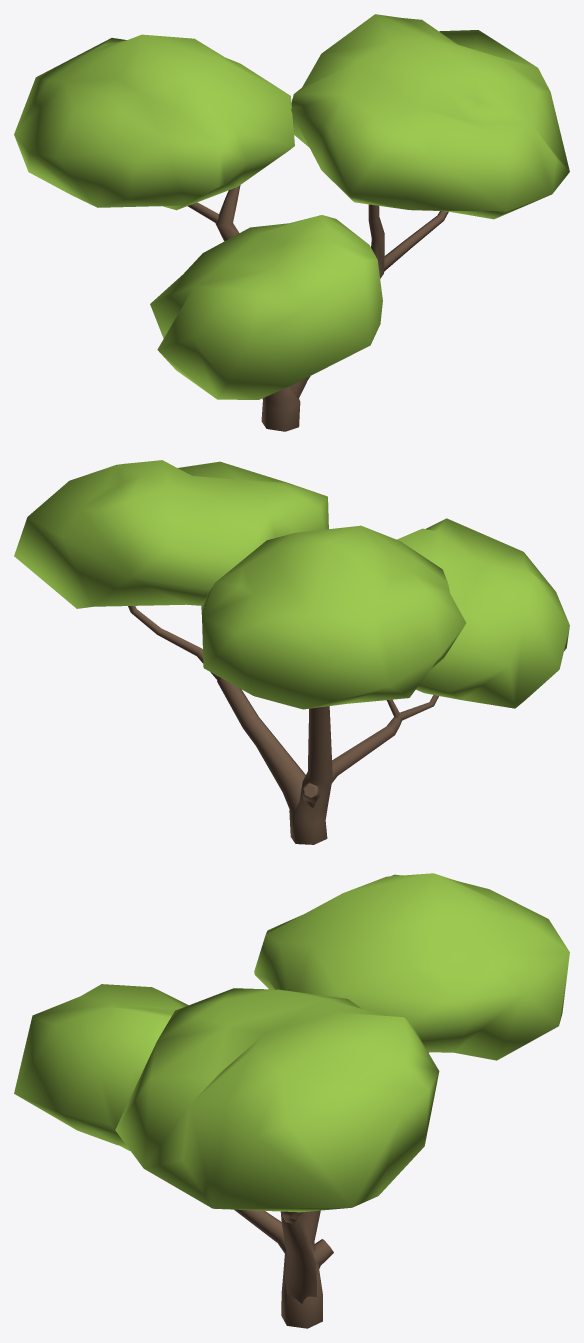
Rendered from tree_2.fbx.
3 views of the same model, one above another, from view 1: azimuth 30°, elevation 25°; view 2: azimuth 150°, elevation 25°; view 3: azimuth 270°, elevation 25° (orthographic). The views are drawn at different scales.
Visible parts, largest first — view 1: Tube; view 2: Tube; view 3: Tube.
Boxes of the visible parts, x1,y1,x2,y2 form: Tube: (14,14,569,431); Tube: (14,460,569,844); Tube: (14,873,569,1328).
Size of the model in its own units: 52.45 by 38.91 by 48.51.
